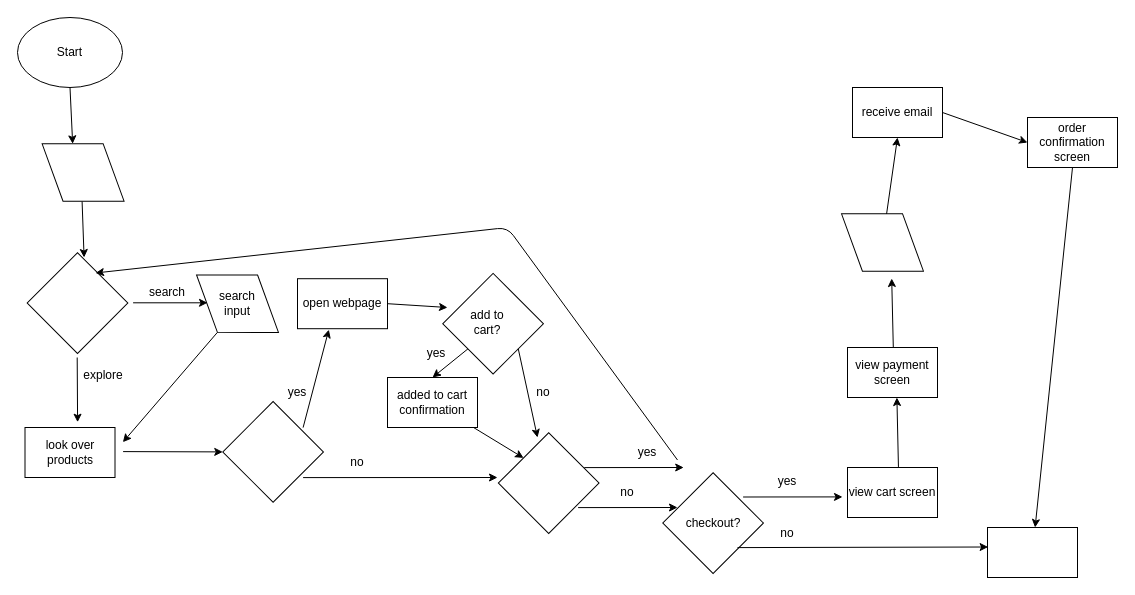
This 1135x595 diagram has some shape labels left out. Each missing label, with the centre of its shape:
continue shopping?: pixel 548 483
enter website: pixel 82 172
leave website: pixel 1032 552
payment info: pixel 882 242
search/explore products?: pixel 77 303
view specific product?: pixel 273 451
